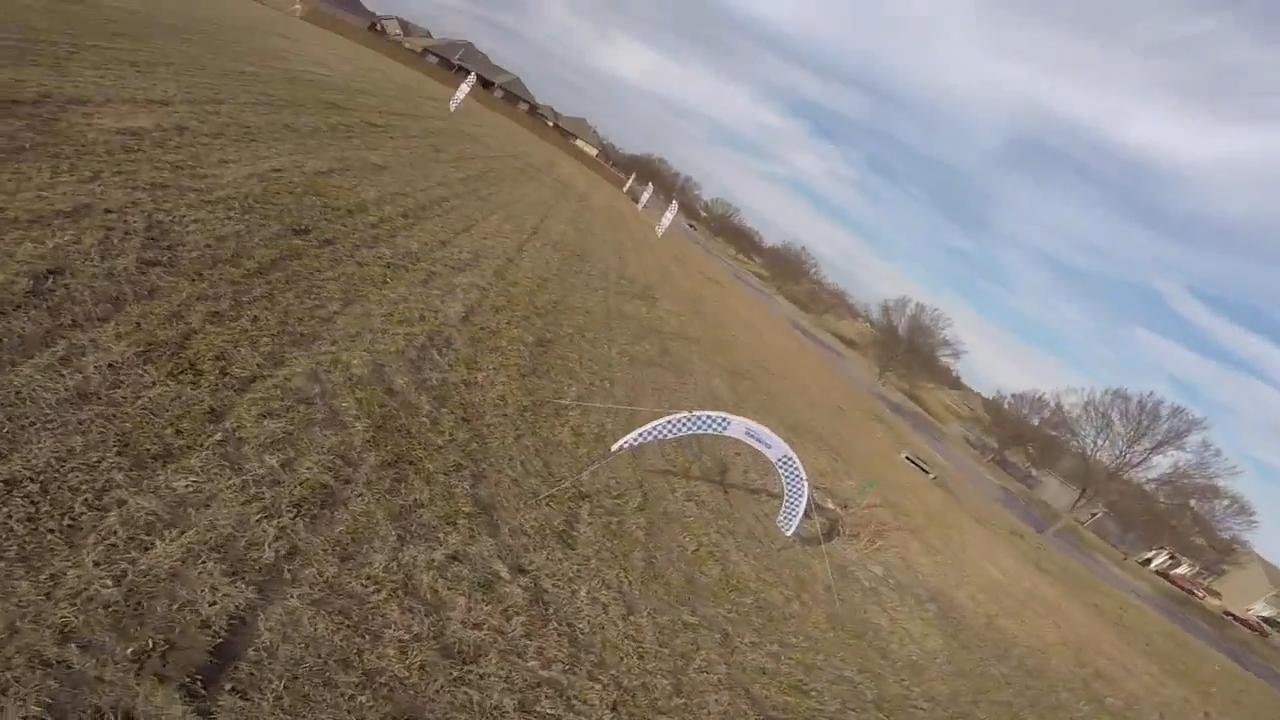gate: (601, 406, 811, 538)
